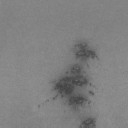iron sheet ash: (50, 62, 88, 101), (74, 42, 100, 60), (66, 96, 91, 108), (78, 118, 96, 128), (89, 91, 94, 96)
